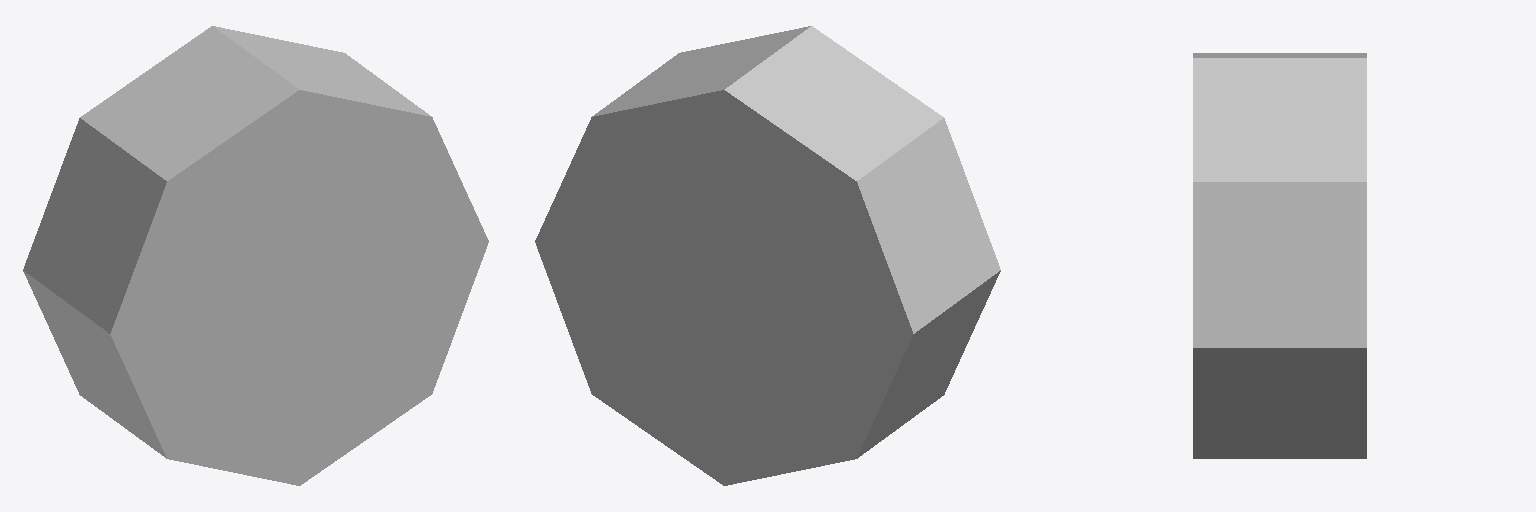
The model's file is coinCollider.obj.
The picture shows the model from 3 angles: view 1: azimuth 30°, elevation 25°; view 2: azimuth 150°, elevation 25°; view 3: azimuth 270°, elevation 25°; orthographic projection.
Parts seen in each view (by area): view 1: Cube; view 2: Cube; view 3: Cube.
Part boxes in pixels (bbox=[...]): Cube: bbox=[23, 26, 488, 485]; Cube: bbox=[535, 26, 1000, 485]; Cube: bbox=[1193, 53, 1366, 458].
Size of the model in its own units: 0.4 by 0.4 by 0.16.